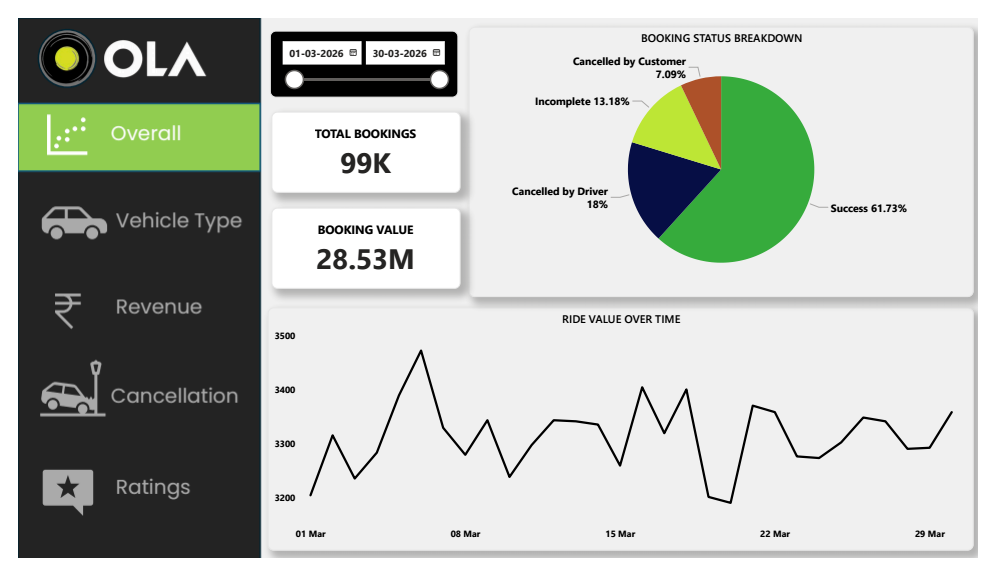

What the dashboard file says about the page in this screenshot:
{"tool":"powerbi","page":{"name":"Overall","canvas":[1280,720],"ordinal":0},"visuals":[{"type":"image","box":[0,0,1280,720.3],"z":0},{"type":"actionButton","box":[0,347.1,324.7,83.3],"z":1000},{"type":"actionButton","box":[0,446.6,324.7,105.7],"z":2000},{"type":"actionButton","box":[0,228.9,324.7,85.8],"z":3000},{"type":"actionButton","box":[0,584.7,324.7,92.1],"z":4000},{"type":"lineChart","title":"RIDE VALUE OVER TIME","fields":{"Y":["All_Measures.Total Bookings"],"Category":["public ola_rides.date"]},"box":[333.4,385.6,940.4,324.7],"z":5000},{"type":"pieChart","title":"BOOKING STATUS BREAKDOWN","fields":{"Category":["public ola_rides.booking_status"],"Y":["All_Measures.Total Bookings"]},"box":[600.8,12.4,673,359.5],"z":6000},{"type":"slicer","fields":{"Values":["public ola_rides.date"]},"box":[335.9,14.9,251.3,88.3],"z":7000},{"type":"cardVisual","fields":{"Data":["All_Measures.Total Bookings"]},"box":[338.4,125,251.3,108.2],"z":8000},{"type":"cardVisual","fields":{"Data":["All_Measures.TOTAL BOOKING VALUE"]},"box":[338.4,252.5,251.3,108.2],"z":9000}]}

Visuals, with their boxes in screenshot pixels (x1, y1, x2, y2), scaled from the page's 1280x720 canvas onto the 996x576 screenshot:
image: detection(0, 0, 995, 575)
actionButton: detection(0, 278, 253, 344)
actionButton: detection(0, 357, 253, 442)
actionButton: detection(0, 183, 253, 252)
actionButton: detection(0, 468, 253, 541)
"RIDE VALUE OVER TIME" lineChart: detection(259, 308, 991, 568)
"BOOKING STATUS BREAKDOWN" pieChart: detection(467, 10, 991, 298)
slicer - public ola_rides.date: detection(261, 12, 457, 83)
cardVisual - All_Measures.Total Bookings: detection(263, 100, 459, 187)
cardVisual - All_Measures.TOTAL BOOKING VALUE: detection(263, 202, 459, 289)
